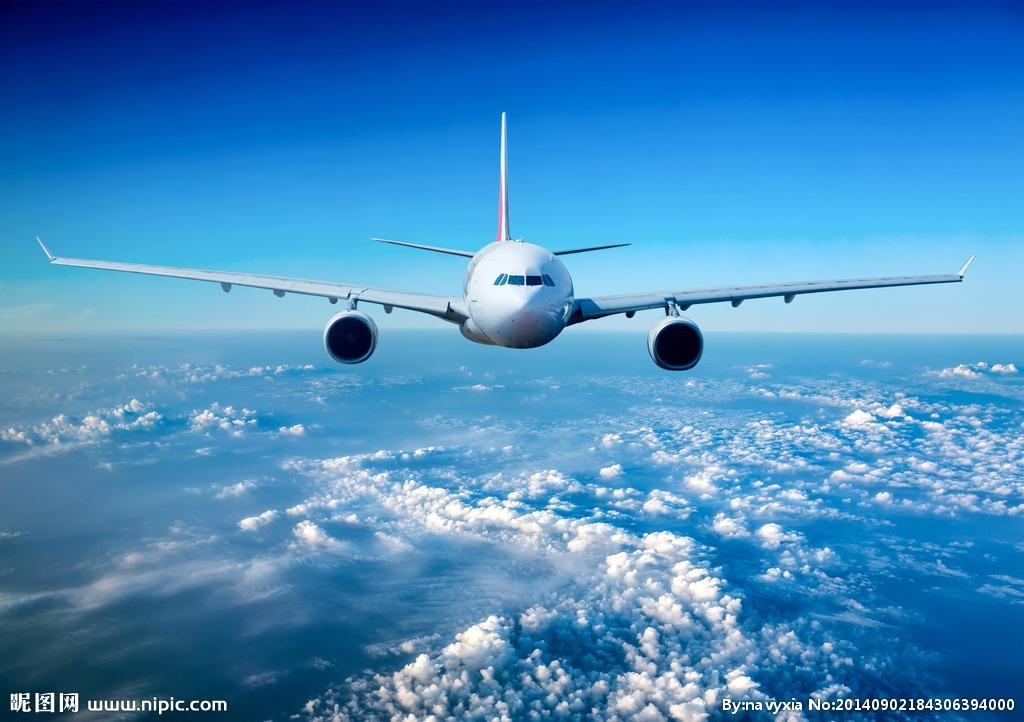airplane: (39, 106, 982, 351)
